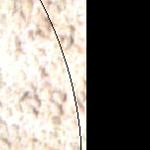alive: (1, 3, 82, 148)
